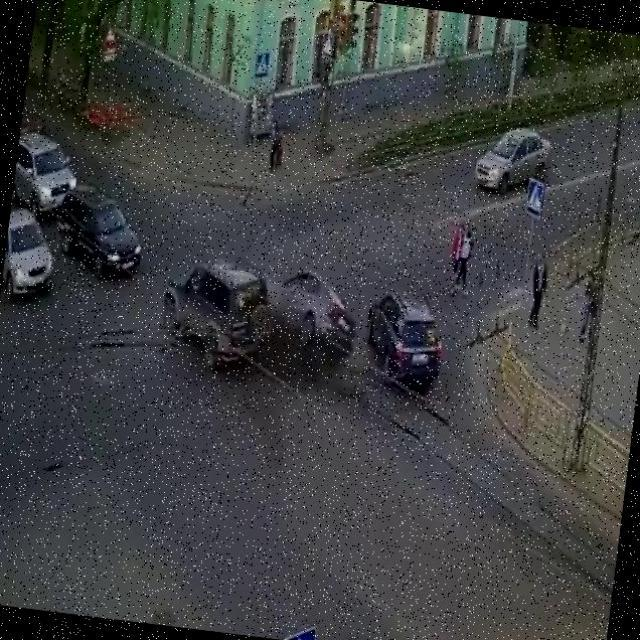accident: (228, 266, 344, 362)
